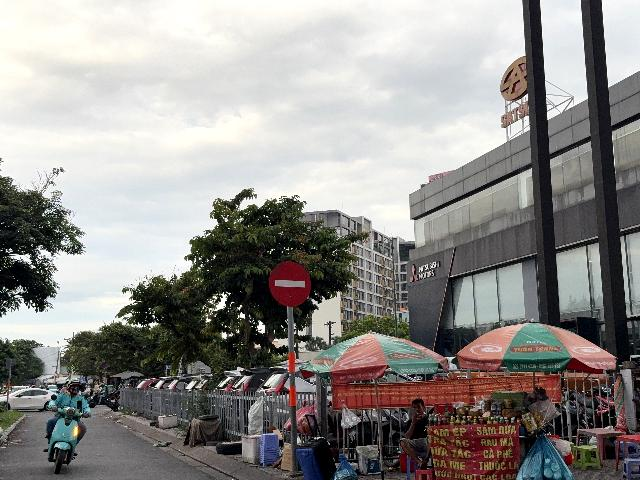cam-di-nguoc-chieu: (269, 261, 311, 307)
